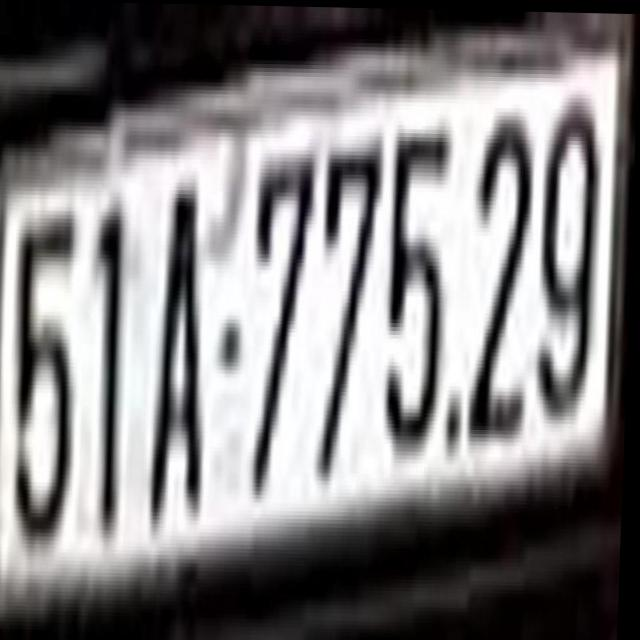1: (91, 195, 132, 561)
2: (468, 105, 537, 448)
5: (383, 111, 454, 473), (11, 202, 83, 541)
7: (248, 129, 317, 506), (314, 110, 384, 472)
9: (536, 91, 600, 426)
A: (149, 162, 219, 520)
